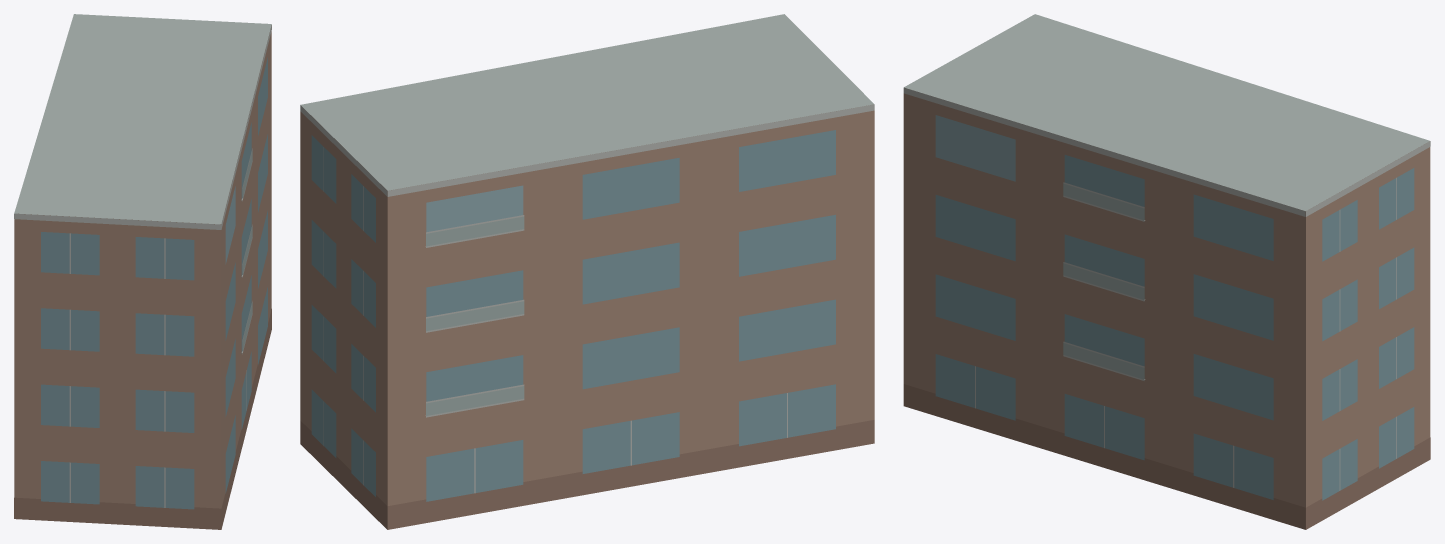
Rendered from survey-upis-32634569.glb.
3 renders of one model, left to right at view 1: azimuth 30°, elevation 25°; view 2: azimuth 150°, elevation 25°; view 3: azimuth 270°, elevation 25°, orthographic. The views are drawn at different scales.
Parts seen in each view (by area): view 1: survey-upis-32634569.tmp; view 2: survey-upis-32634569.tmp; view 3: survey-upis-32634569.tmp.
Part boxes in pixels (x1,y1,x2,y2): survey-upis-32634569.tmp: (14, 14, 271, 529); survey-upis-32634569.tmp: (300, 14, 874, 529); survey-upis-32634569.tmp: (903, 14, 1430, 529).
Size of the model in its own units: 17.61 by 13.26 by 19.88.
